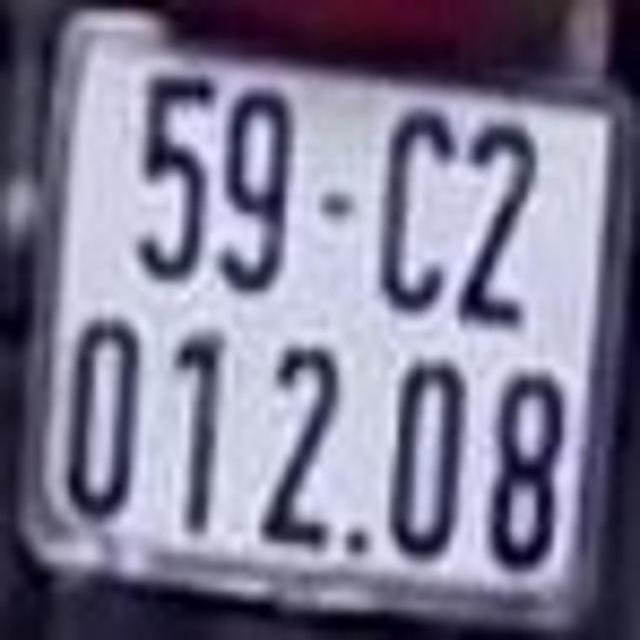0: (387, 354, 464, 559), (66, 312, 140, 518)
1: (170, 328, 228, 536)
2: (259, 337, 338, 550), (460, 117, 536, 330)
5: (135, 69, 213, 283)
8: (490, 367, 563, 572)
9: (220, 83, 290, 294)
C: (377, 102, 455, 312)
